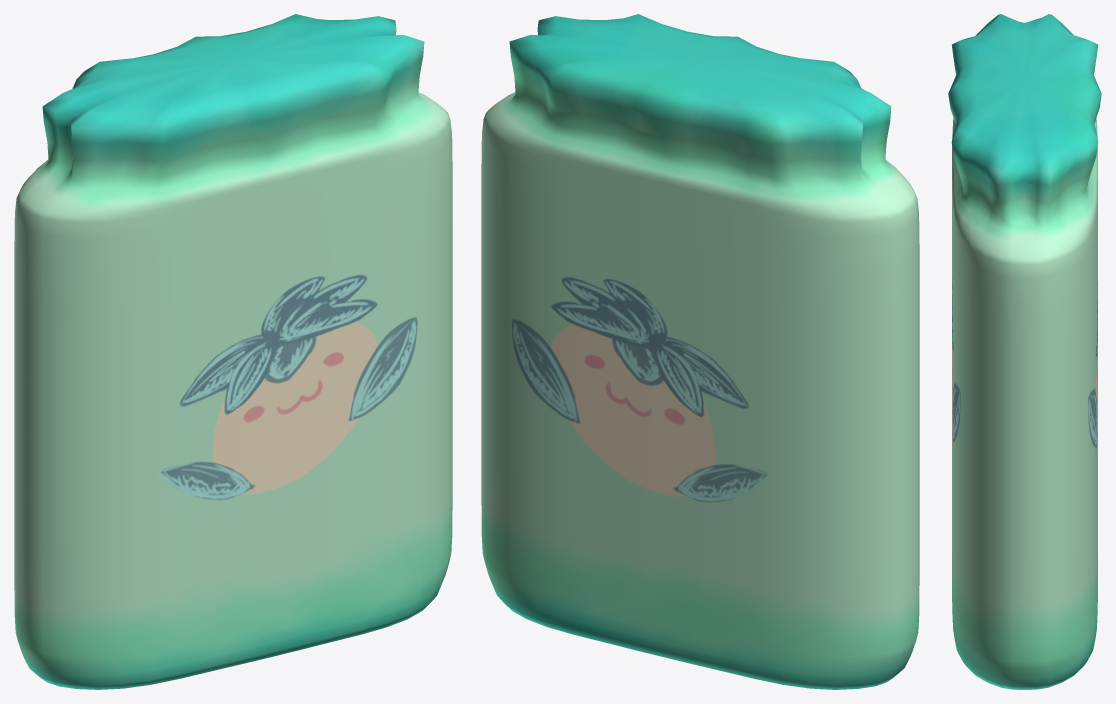
Rendered from Seedbag1.fbx.
3 views of the same model, side by side, from view 1: azimuth 30°, elevation 25°; view 2: azimuth 150°, elevation 25°; view 3: azimuth 270°, elevation 25° (orthographic). The views are drawn at different scales.
Visible parts, largest first — view 1: seedbag1; view 2: seedbag1; view 3: seedbag1.
Boxes of the visible parts, left/top/right/bottom form: seedbag1: left=14, top=14, right=452, bottom=689; seedbag1: left=481, top=14, right=919, bottom=689; seedbag1: left=948, top=14, right=1101, bottom=689.
Size of the model in its own units: 32.96 by 43.11 by 11.37.
1 material, 1 textured.
